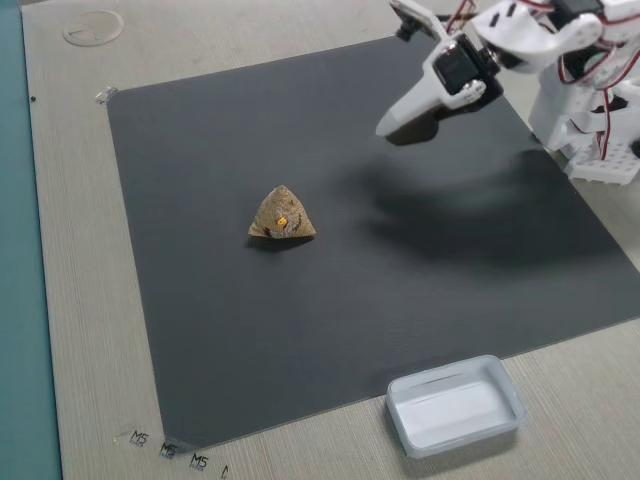objects: (356, 20, 493, 159)
